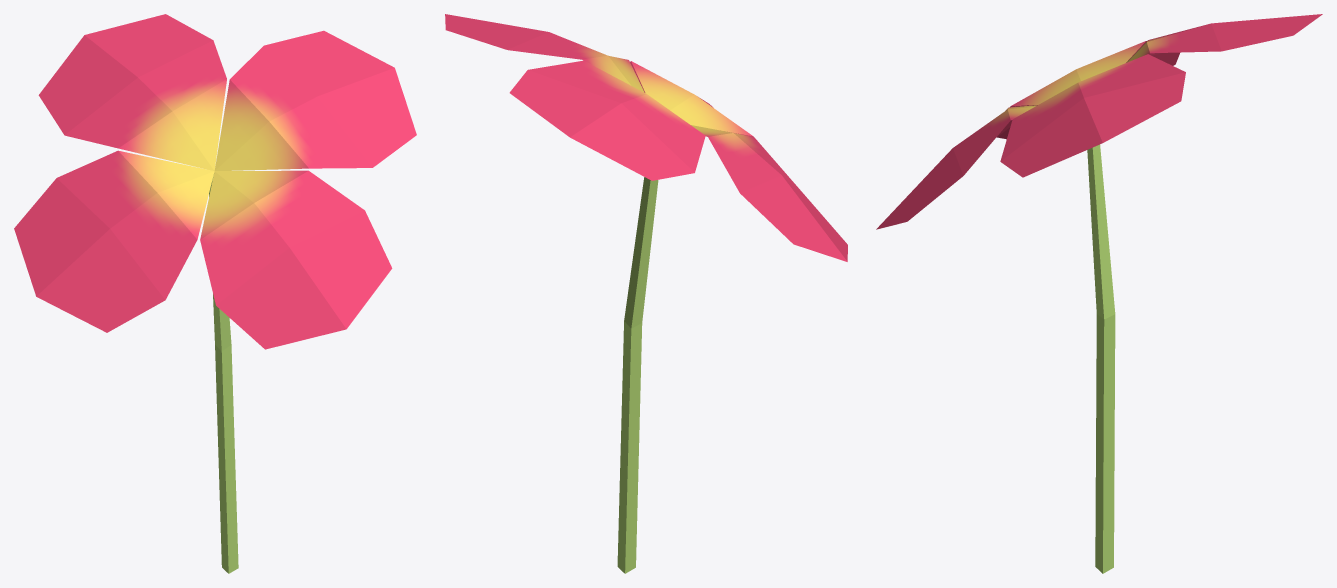
The model's file is Flower_c_TwoS_02.fbx.
3 renders of one model, left to right at view 1: azimuth 30°, elevation 25°; view 2: azimuth 150°, elevation 25°; view 3: azimuth 270°, elevation 25°, orthographic. The views are drawn at different scales.
Visible parts, largest first — view 1: Flower_c_TwoS_02; view 2: Flower_c_TwoS_02; view 3: Flower_c_TwoS_02.
Part boxes in pixels (x1,y1,x2,y2): Flower_c_TwoS_02: (14,14,416,573); Flower_c_TwoS_02: (445,14,847,573); Flower_c_TwoS_02: (876,14,1322,573).
Size of the model in its own units: 0.3014 by 0.3893 by 0.2891.
